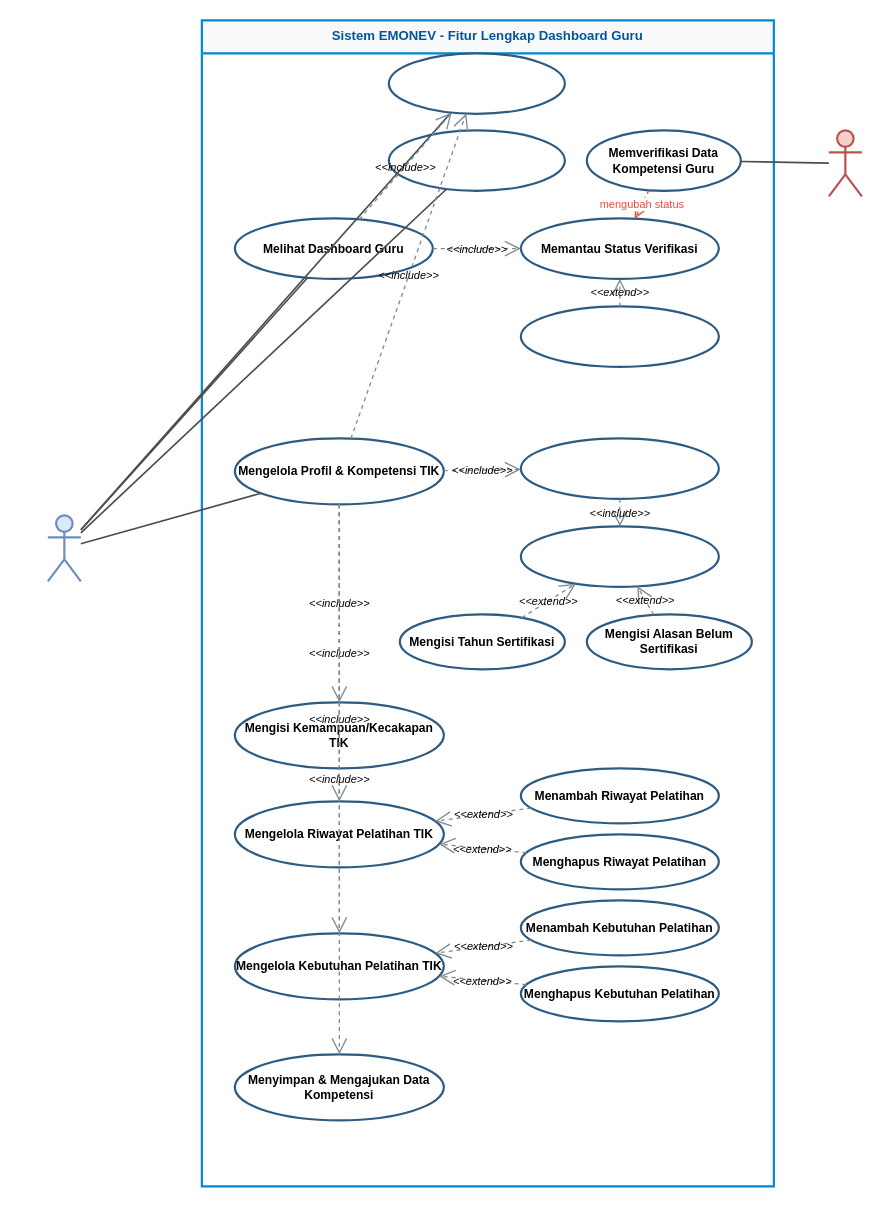
The diagram is 894 pixels wide and 1206 high, and some of its shapes have lost their labels. The box of each missing label's shape, as (x1, y1, x2, y2) in pixels:
Guru (Pendidik): (46, 514, 81, 582)
Login ke Sistem: (387, 52, 565, 114)
Logout dari Sistem: (387, 129, 565, 191)
Membaca Catatan Verifikator: (519, 305, 719, 367)
Mengisi / Mengubah Data Pribadi: (519, 437, 719, 499)
Mengisi Riwayat Sertifikasi: (519, 525, 719, 587)
Verifikator: (827, 129, 862, 197)
